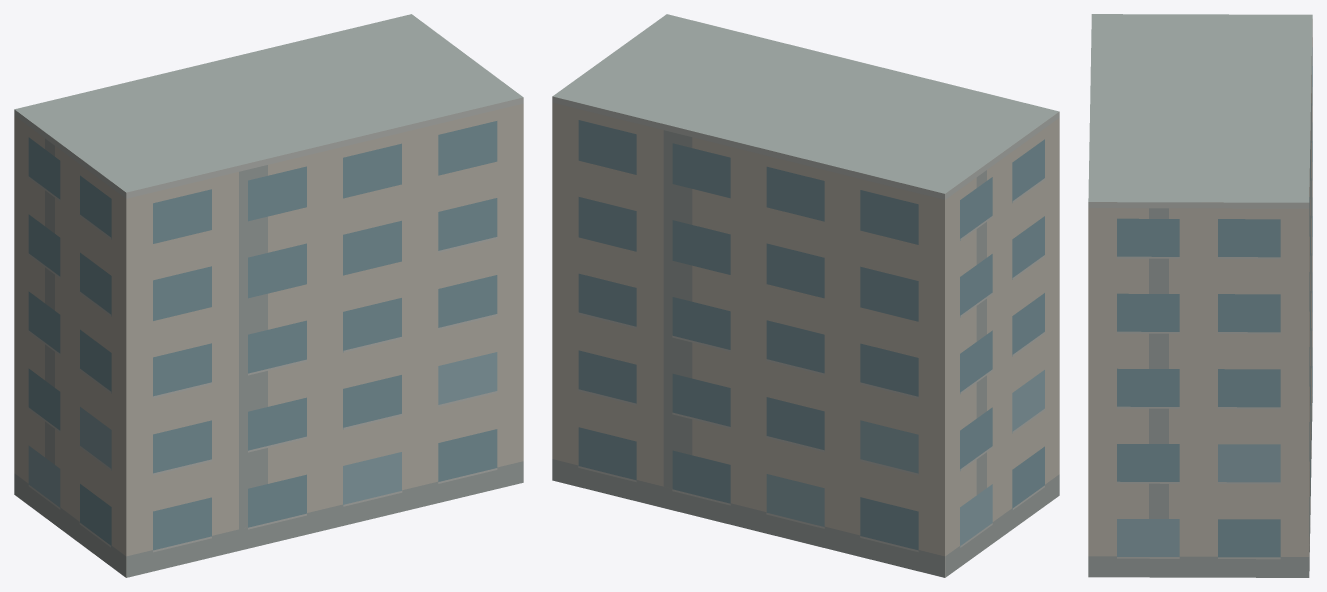
Rendered from survey-upis-32625371.glb.
3 renders of one model, left to right at view 1: azimuth 30°, elevation 25°; view 2: azimuth 150°, elevation 25°; view 3: azimuth 270°, elevation 25°, orthographic. The views are drawn at different scales.
Parts seen in each view (by area): view 1: survey-upis-32625371.tmp; view 2: survey-upis-32625371.tmp; view 3: survey-upis-32625371.tmp.
Part boxes in pixels (<box>): survey-upis-32625371.tmp: <box>14,14,523,577</box>; survey-upis-32625371.tmp: <box>552,14,1059,577</box>; survey-upis-32625371.tmp: <box>1088,14,1312,577</box>.
Bounding box in the file's own units: 16.46 × 15.25 × 8.27.
